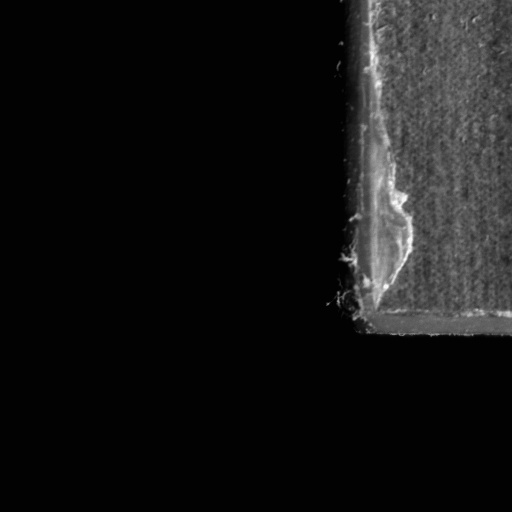bengque: (373, 183, 416, 304)
jiaofeng: (462, 307, 511, 320)
